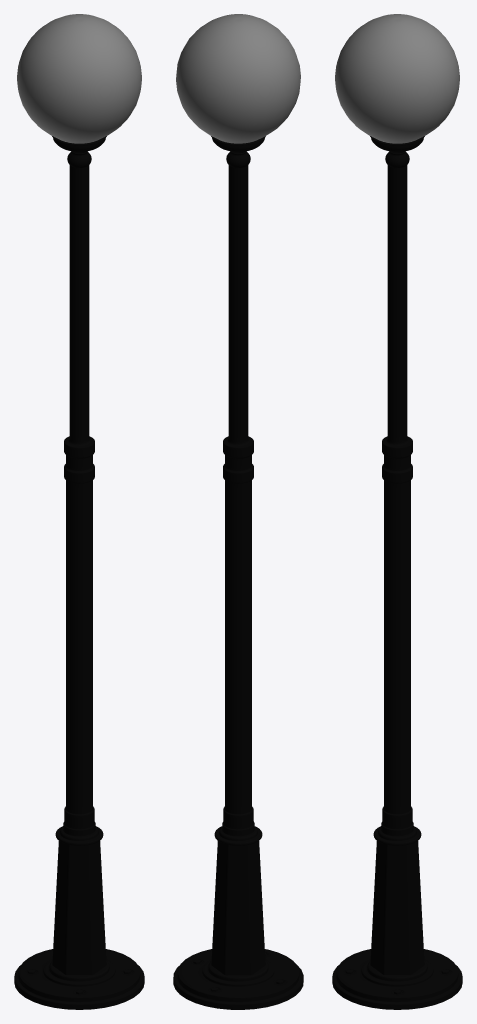
Rendered from luminaria.obj.
3 renders of one model, left to right at view 1: azimuth 90°, elevation 25°; view 2: azimuth 150°, elevation 25°; view 3: azimuth 270°, elevation 25°, orthographic.
Parts seen in each view (by area): view 1: StrLmp1_Post_Cylinder_011, StrLmp1_Lamp_Sphere_002, StrLmp1_Stand_Cylinder_012; view 2: StrLmp1_Post_Cylinder_011, StrLmp1_Lamp_Sphere_002, StrLmp1_Stand_Cylinder_012; view 3: StrLmp1_Post_Cylinder_011, StrLmp1_Lamp_Sphere_002, StrLmp1_Stand_Cylinder_012.
Part boxes in pixels (x1,y1,x2,y2): StrLmp1_Post_Cylinder_011: [14, 167, 144, 1009]; StrLmp1_Lamp_Sphere_002: [17, 14, 141, 143]; StrLmp1_Stand_Cylinder_012: [52, 136, 106, 170]; StrLmp1_Post_Cylinder_011: [173, 167, 303, 1009]; StrLmp1_Lamp_Sphere_002: [176, 14, 300, 143]; StrLmp1_Stand_Cylinder_012: [211, 136, 265, 170]; StrLmp1_Post_Cylinder_011: [332, 167, 462, 1009]; StrLmp1_Lamp_Sphere_002: [335, 14, 459, 143]; StrLmp1_Stand_Cylinder_012: [370, 136, 424, 170].
Size of the model in its own units: 0.2682 by 2.18 by 0.2682.
